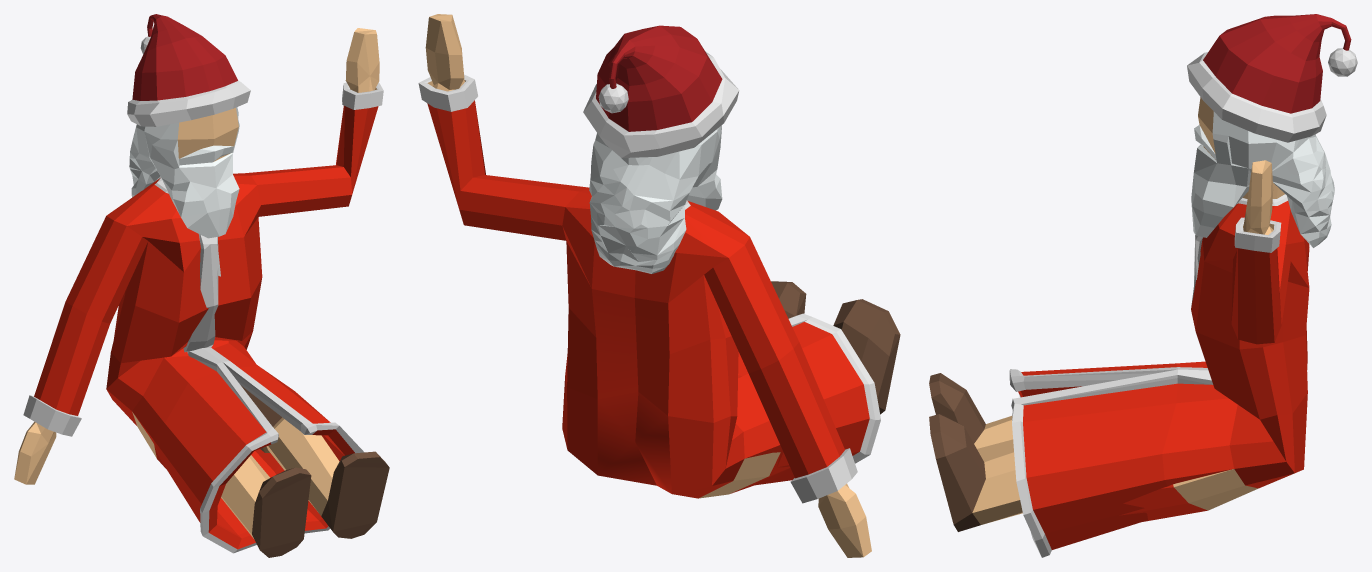
File: Santa_2.fbx
3 renders of one model, left to right at view 1: azimuth 30°, elevation 25°; view 2: azimuth 150°, elevation 25°; view 3: azimuth 270°, elevation 25°, orthographic. The views are drawn at different scales.
Visible parts, largest first — view 1: Charakter_mesh.001; view 2: Charakter_mesh.001; view 3: Charakter_mesh.001.
Part boxes in pixels (<box>): Charakter_mesh.001: <box>14,14,389,557</box>; Charakter_mesh.001: <box>418,14,900,557</box>; Charakter_mesh.001: <box>929,14,1357,557</box>.
Size of the model in its own units: 125 by 143 by 108.
